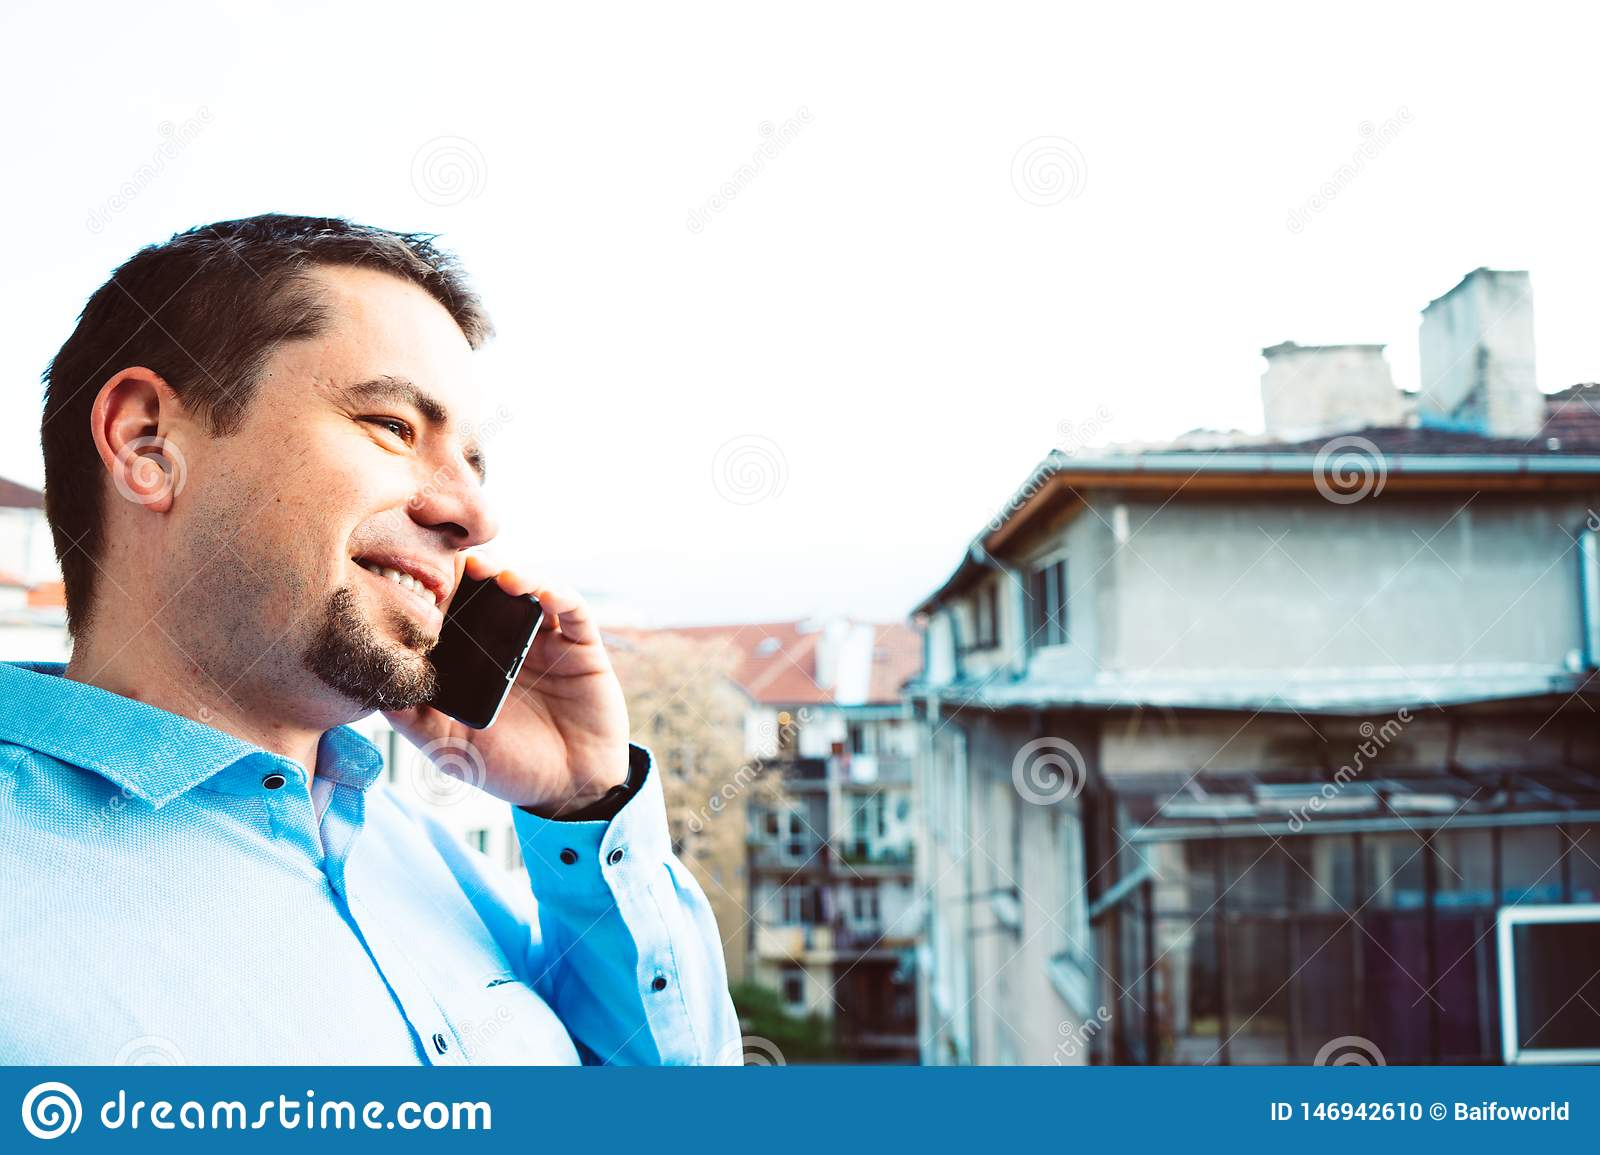phone: (424, 563, 552, 736)
talk: (284, 356, 630, 818)
